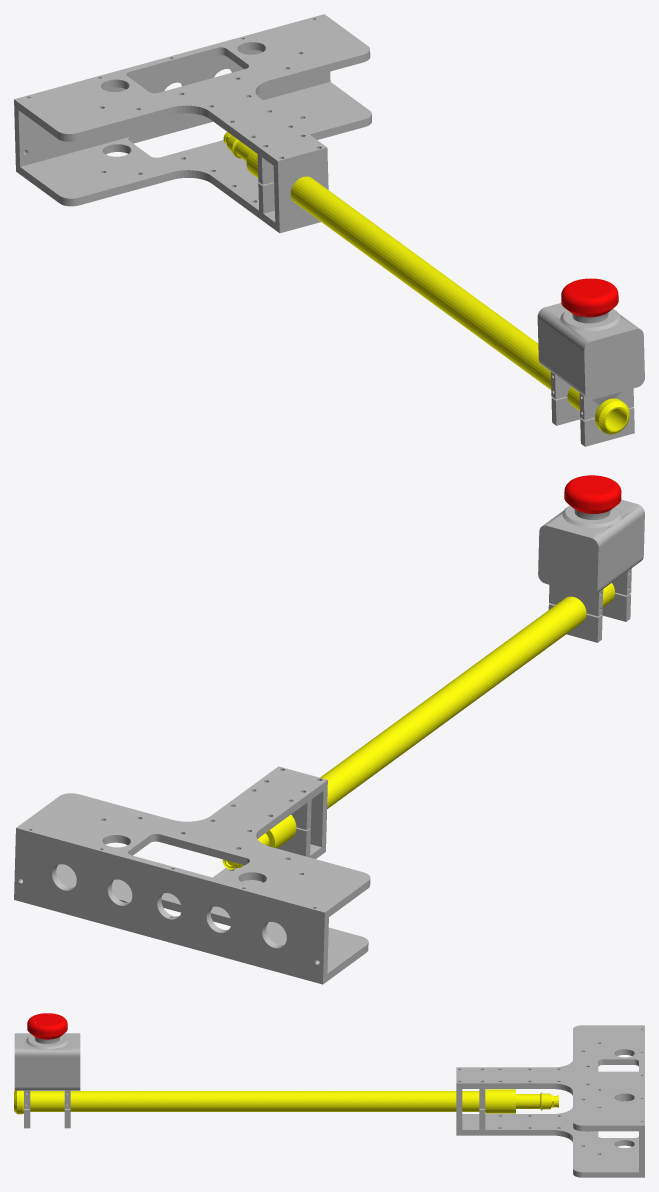
The model's file is torso_lower_mini.dae.
The picture shows the model from 3 angles, top to bottom: view 1: azimuth 30°, elevation 25°; view 2: azimuth 150°, elevation 25°; view 3: azimuth 270°, elevation 25°; orthographic projection. The views are drawn at different scales.
Visible parts, largest first — view 1: node; view 2: node; view 3: node.
Part boxes in pixels (box(x1,y1,x2,y2)): node: box(14, 14, 644, 446); node: box(14, 475, 644, 984); node: box(14, 1013, 644, 1177).
Size of the model in its own units: 25.15 by 12 by 62.22.
1 material, 1 textured.
